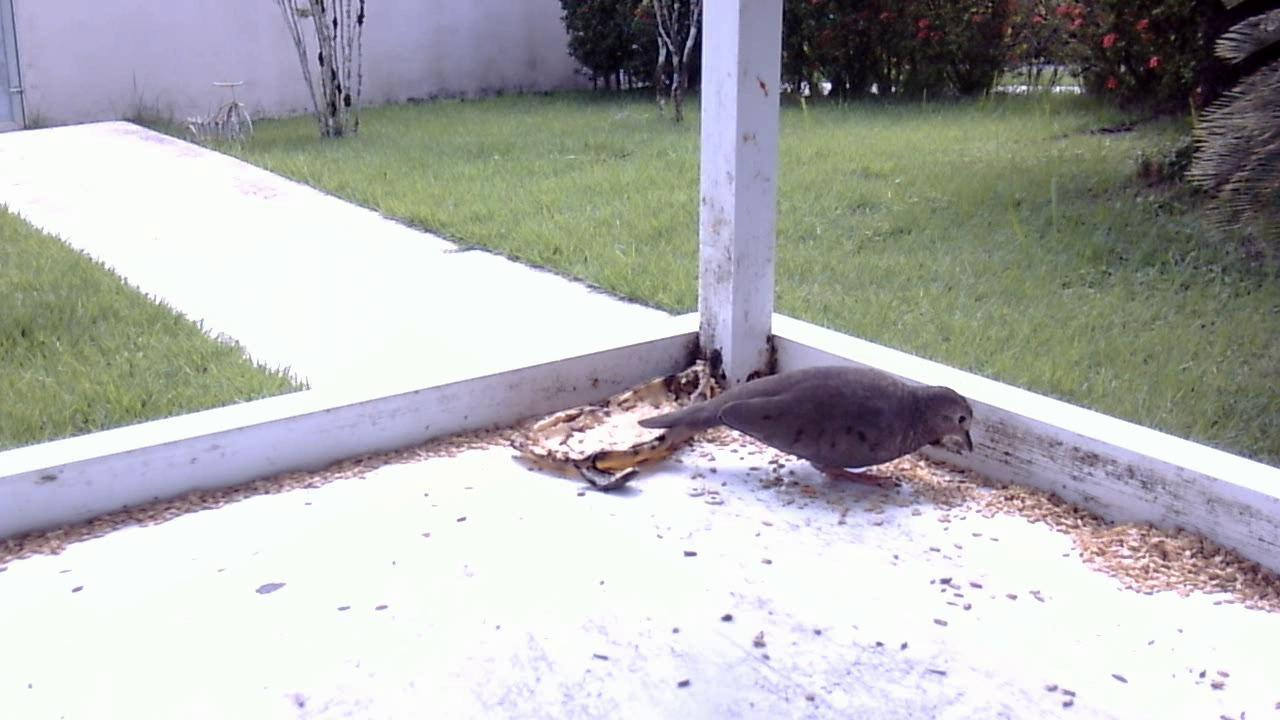rolinha: (580, 357, 980, 502)
